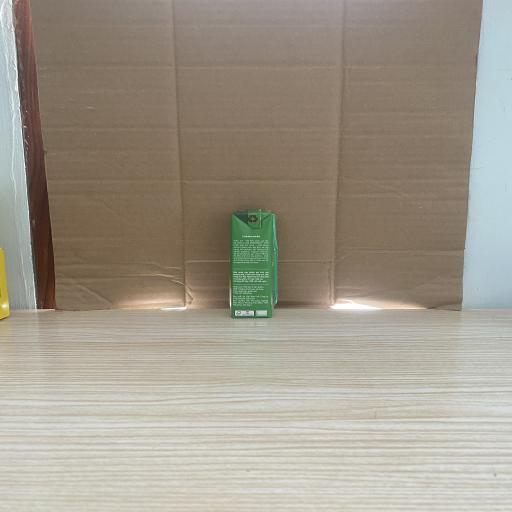milo: (230, 210, 278, 318)
